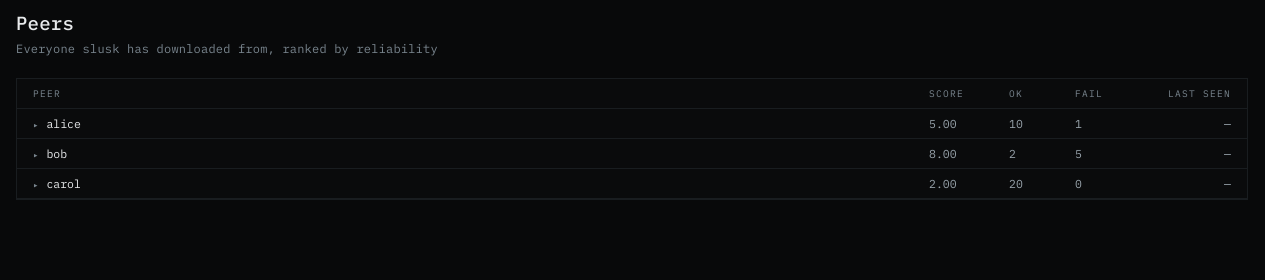
Scenario: Peers expansion query state › shows a failure line when the expanded peer’s history cannot be fetched
Step 1. Click the text "alice" → (64, 124), box 46,116 -> 81,131
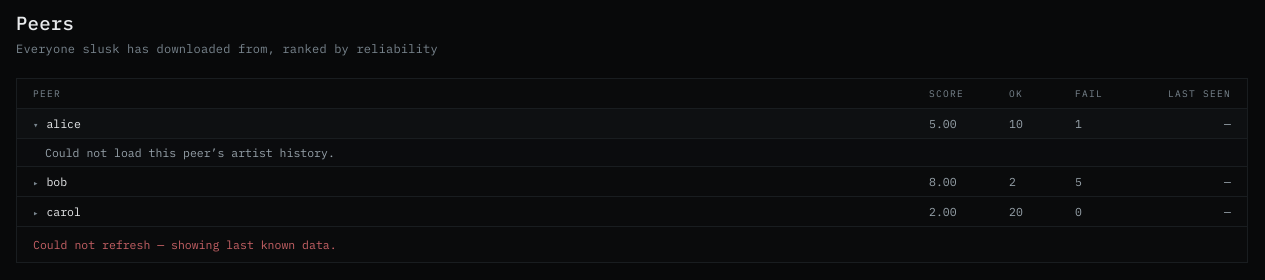
Expected: the text "Could not load this peer’s artist history." is shown, 45,145 -> 335,160
